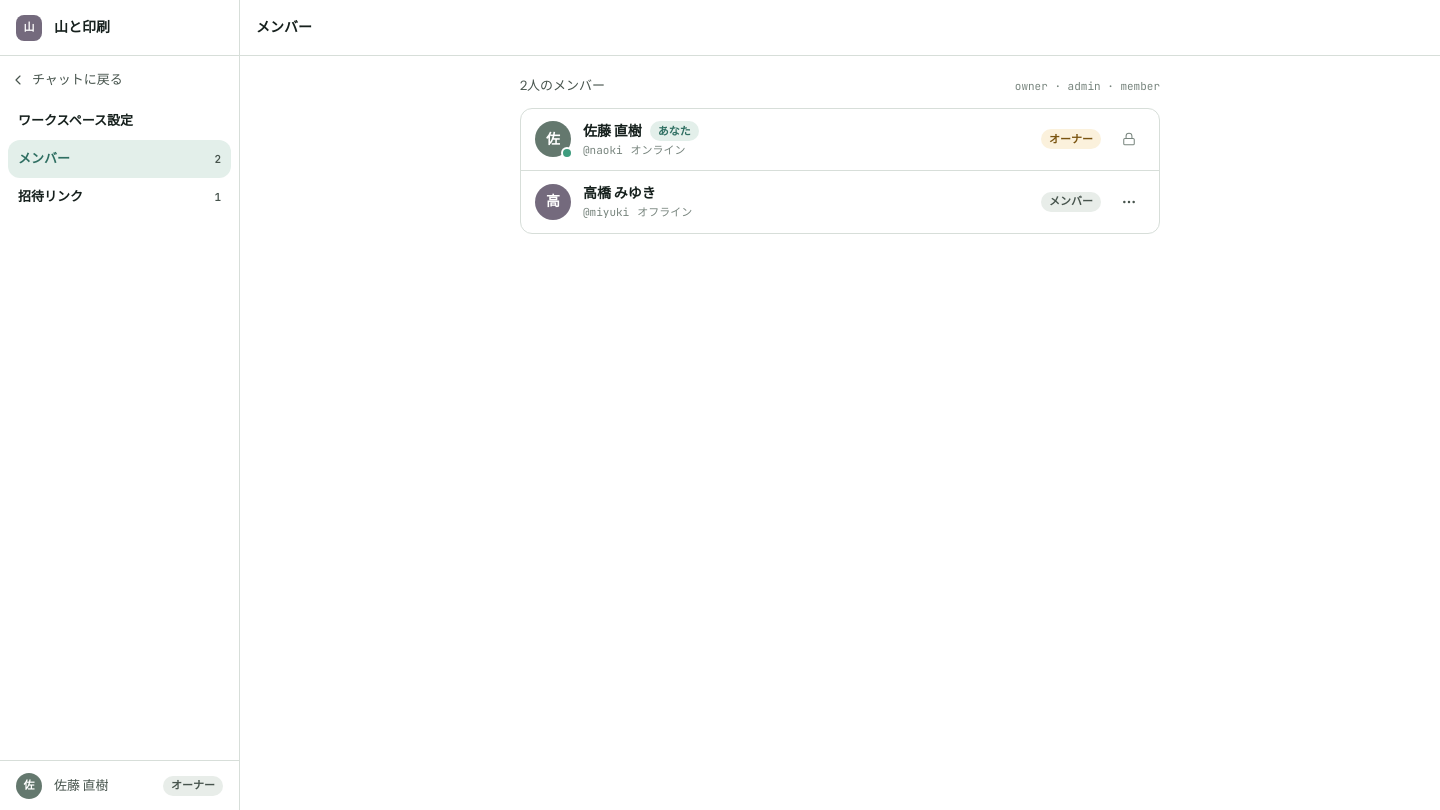
Test: the workspace admin screens › members › changes a role from the menu
The image size is (1440, 810).
Click the button named "高橋 みゆき のロールを変更" at (1129, 202), box [1113,186,1145,218]
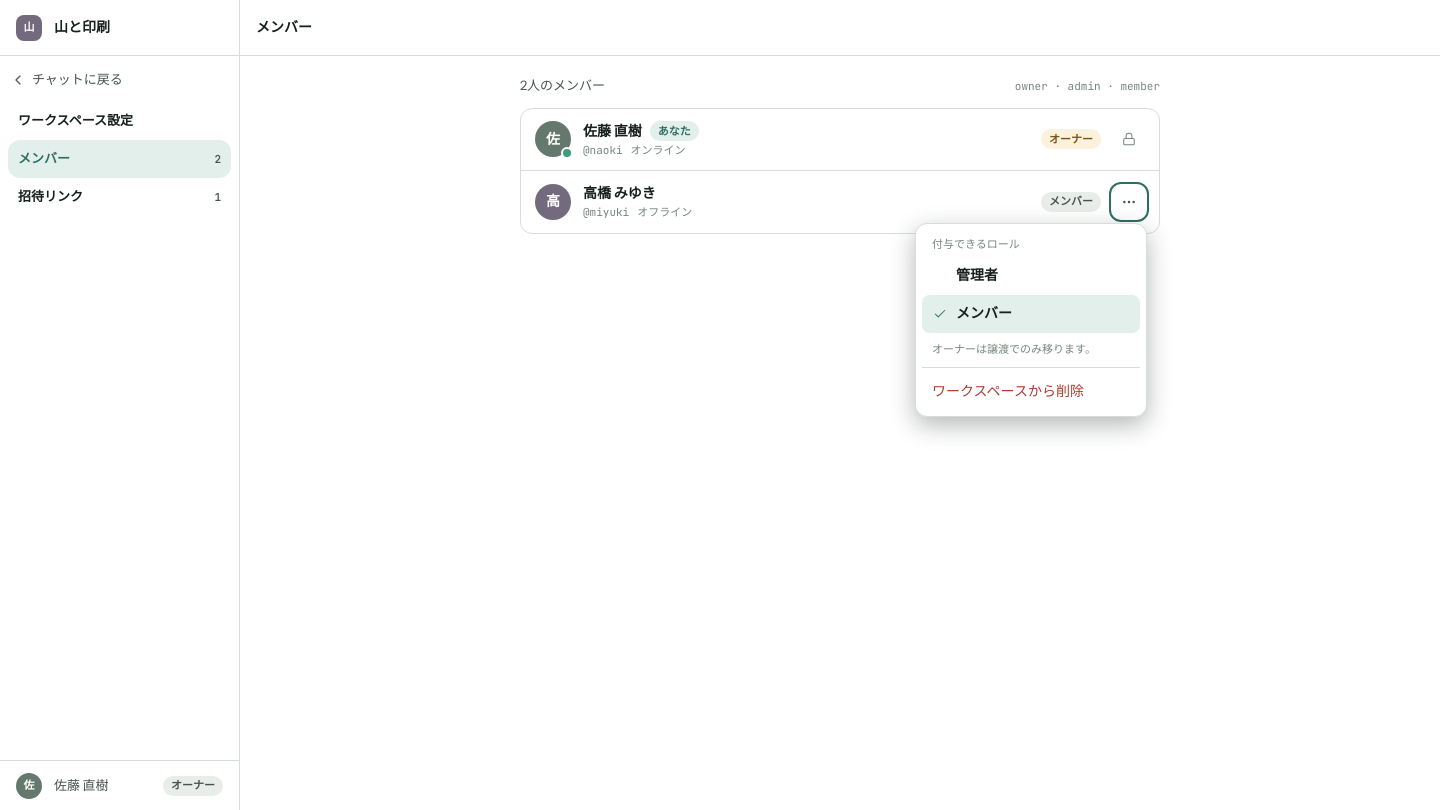
Click the button "管理者" at (1031, 276), box [922,256,1140,294]
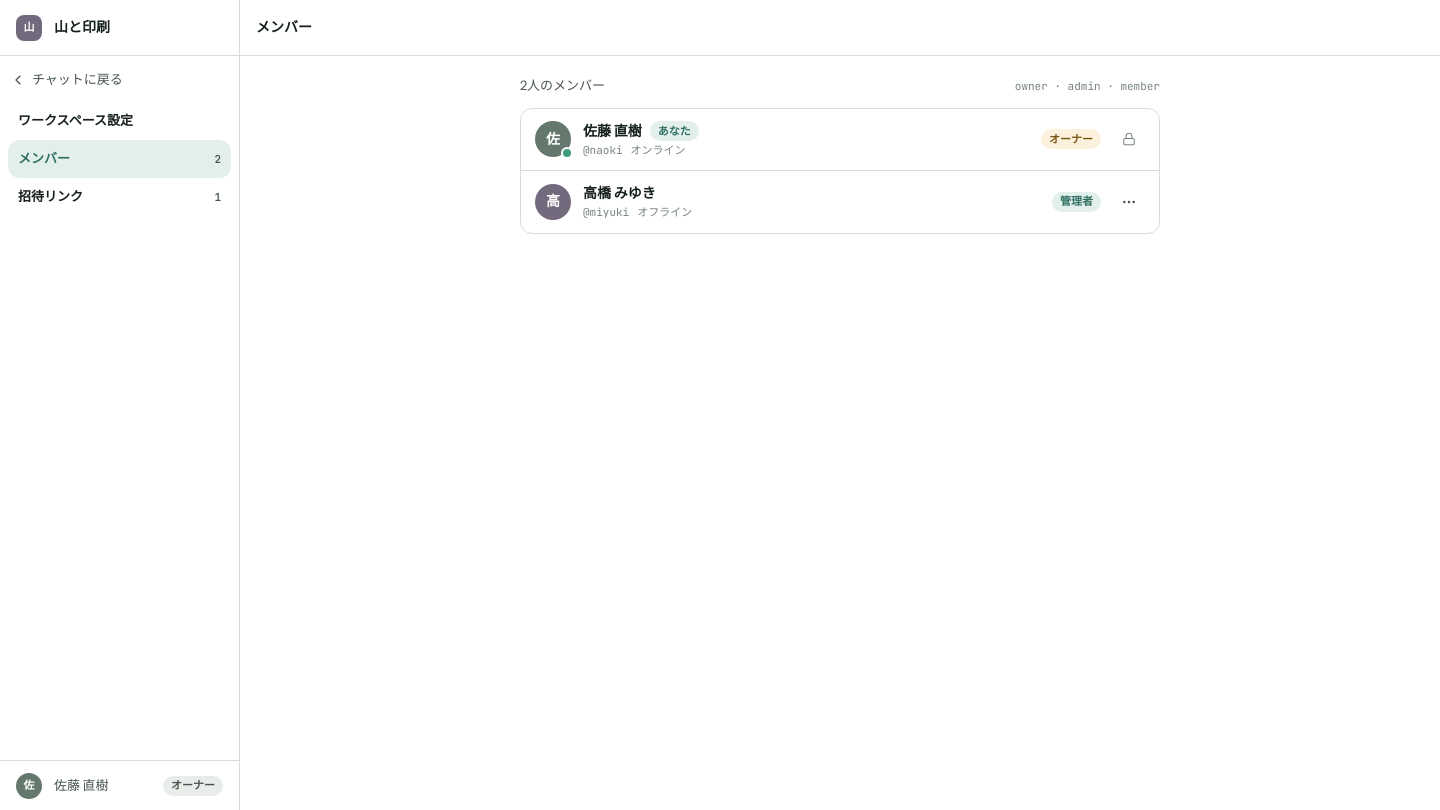
Expected: the text "管理者" is shown, [1052,192,1101,212]
Expected: the text "付与できるロール" is gone
